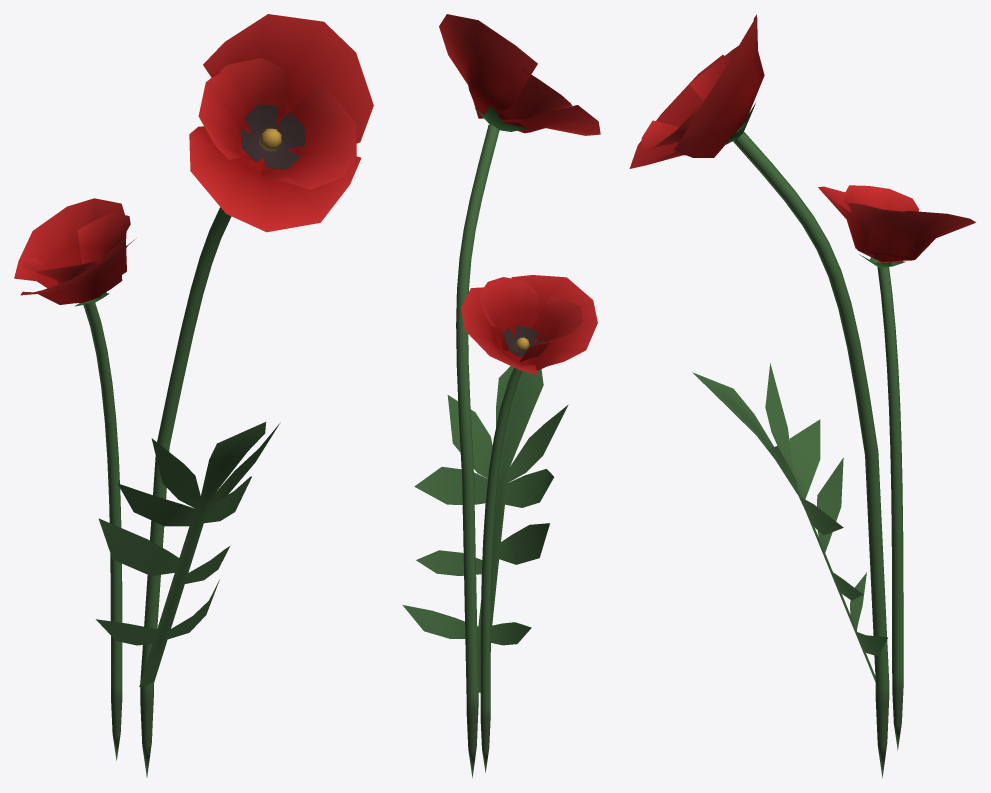
File: plants-flowers-poppy_v2.fbx
The picture shows the model from 3 angles, left to right: view 1: azimuth 30°, elevation 25°; view 2: azimuth 150°, elevation 25°; view 3: azimuth 270°, elevation 25°; orthographic projection. The views are drawn at different scales.
Parts seen in each view (by area): view 1: Poppy_v2; view 2: Poppy_v2; view 3: Poppy_v2.
Boxes of the visible parts, x1,y1,x2,y2 form: Poppy_v2: (14, 14, 373, 777); Poppy_v2: (402, 14, 600, 778); Poppy_v2: (629, 14, 975, 778).
Bounding box in the file's own units: 0.2006 × 0.6 × 0.239.
